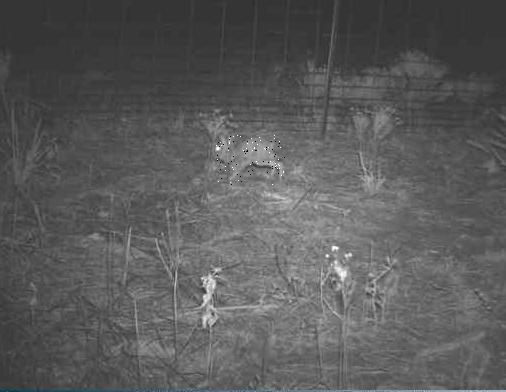Rabbit: (216, 136, 286, 186)
